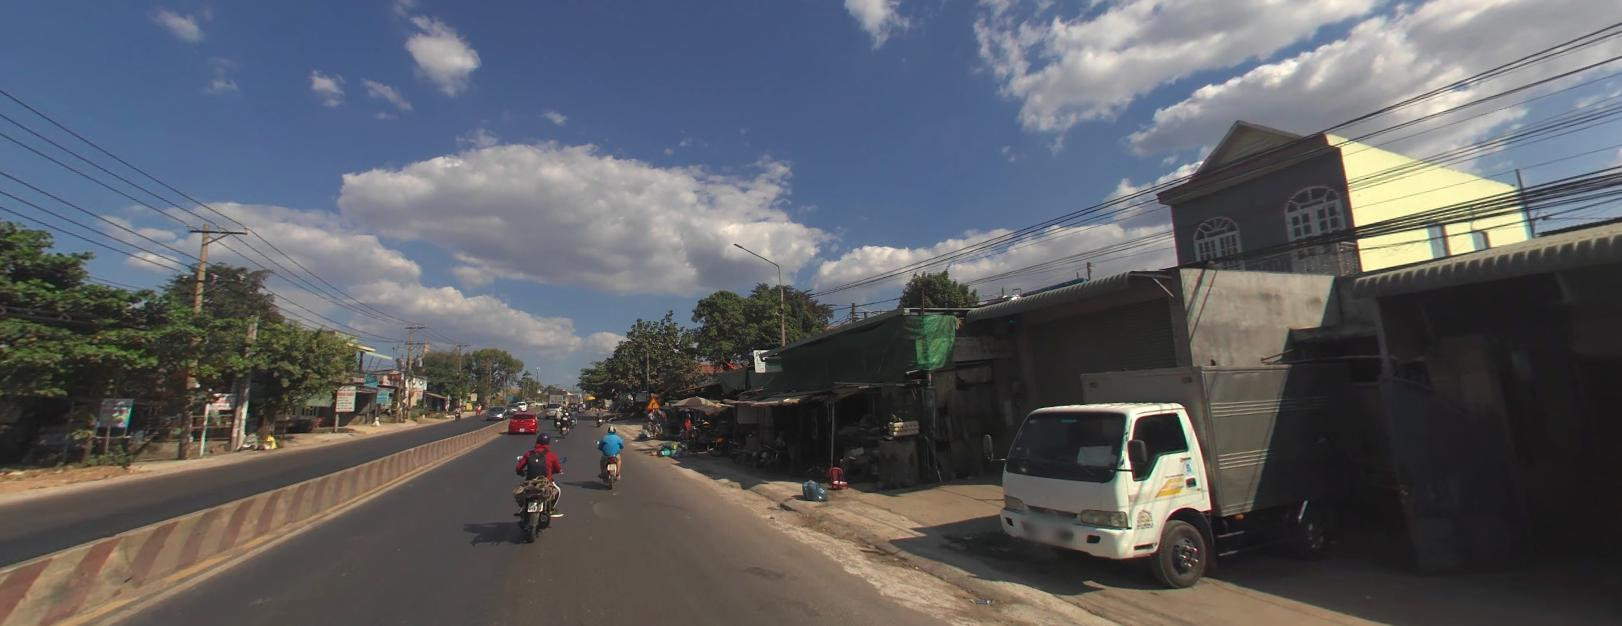Nguy hiem: (645, 395, 659, 408)
